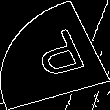P_S: (21, 24, 89, 86)
